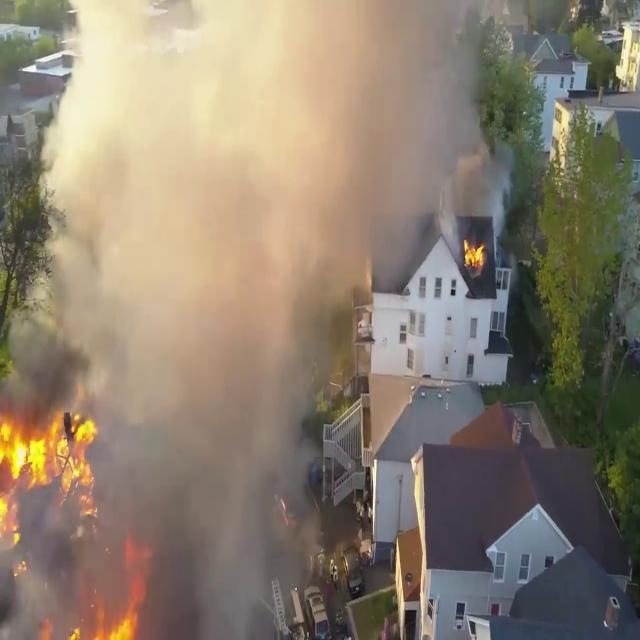Fire: (0, 399, 108, 550), (462, 232, 488, 273)
Smoke: (0, 0, 350, 634)
